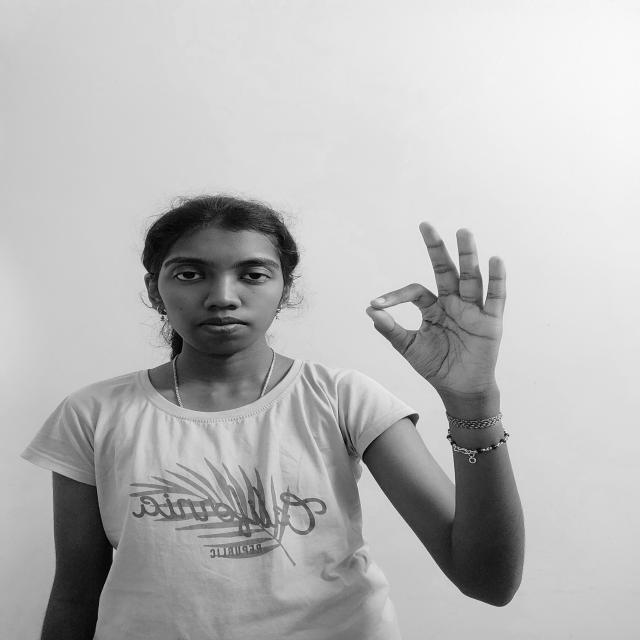Superb: (358, 214, 518, 401)
